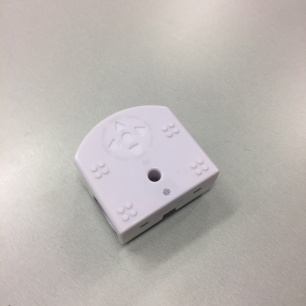thymio: (59, 101, 228, 246)
